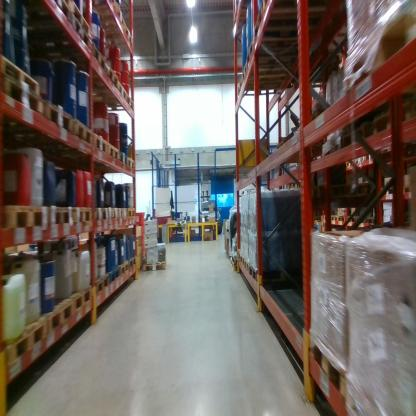pallet: (346, 7, 416, 96), (254, 7, 337, 44), (306, 336, 350, 404), (246, 35, 333, 69), (19, 20, 97, 55), (7, 315, 48, 371), (2, 76, 48, 123), (241, 55, 315, 84), (236, 73, 315, 100), (263, 3, 350, 27), (370, 95, 414, 137), (4, 198, 49, 239), (1, 55, 43, 93), (38, 296, 76, 334), (338, 117, 374, 155), (249, 263, 308, 284), (44, 96, 73, 138), (72, 278, 95, 322), (89, 95, 137, 113), (91, 40, 111, 81), (93, 8, 130, 30), (92, 27, 135, 45), (90, 128, 112, 163), (73, 115, 93, 151), (48, 204, 73, 231), (73, 202, 94, 231), (142, 260, 166, 279), (94, 272, 110, 300), (107, 61, 121, 91), (106, 264, 120, 290), (78, 18, 97, 36), (86, 1, 128, 9), (367, 211, 384, 229), (94, 203, 107, 226), (107, 140, 119, 164), (343, 154, 353, 181), (107, 204, 119, 226), (354, 149, 370, 165), (326, 211, 338, 228), (346, 211, 357, 229), (128, 252, 139, 269), (120, 82, 129, 102), (119, 258, 129, 275), (356, 213, 367, 228), (230, 257, 239, 275), (119, 151, 128, 169), (118, 206, 128, 220), (243, 257, 249, 277), (129, 157, 137, 172), (338, 213, 347, 226), (128, 207, 136, 220), (238, 252, 245, 266)
